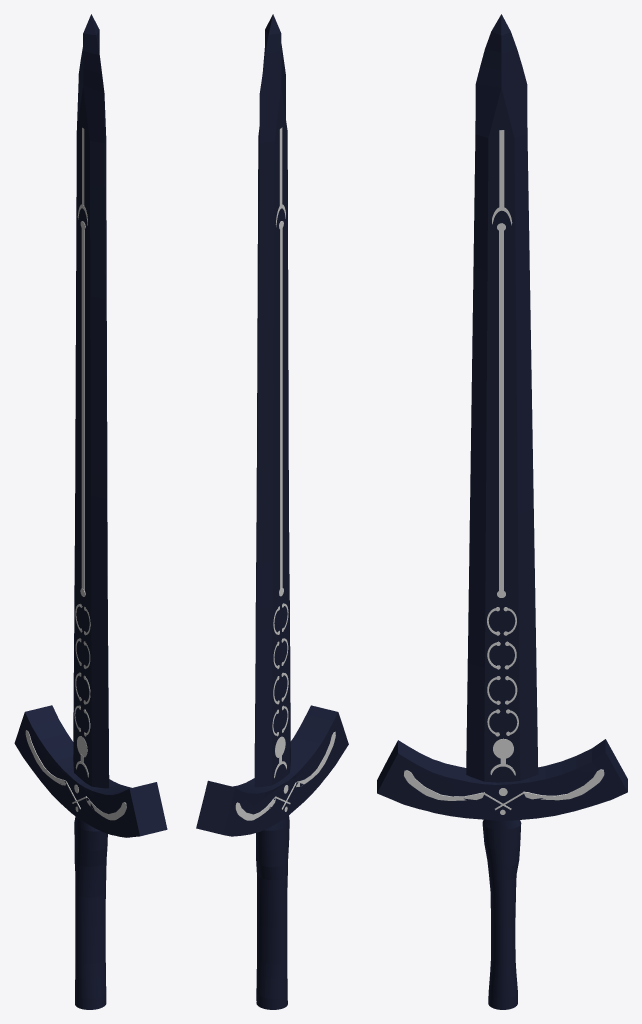
Rendered from Salter sword model.fbx.
The picture shows the model from 3 angles, left to right: view 1: azimuth 30°, elevation 25°; view 2: azimuth 150°, elevation 25°; view 3: azimuth 270°, elevation 25°; orthographic projection.
Parts seen in each view (by area): view 1: Cube.001, Cube, Cylinder, Cube.002; view 2: Cube.001, Cube, Cylinder, Cube.002; view 3: Cube.001, Cube, Cylinder, Cube.002, Cylinder.004, Cylinder.003.
Part boxes in pixels (bbox=[...]): Cube.001: bbox=[73, 14, 109, 788]; Cube: bbox=[14, 705, 167, 837]; Cylinder: bbox=[74, 816, 107, 1009]; Cube.002: bbox=[81, 228, 84, 590]; Cube.001: bbox=[254, 14, 290, 787]; Cube: bbox=[196, 705, 348, 836]; Cylinder: bbox=[256, 815, 289, 1009]; Cube.002: bbox=[280, 228, 282, 589]; Cube.001: bbox=[466, 14, 538, 782]; Cube: bbox=[377, 739, 627, 820]; Cylinder: bbox=[482, 819, 521, 1009]; Cube.002: bbox=[499, 231, 503, 592]; Cylinder.004: bbox=[523, 769, 604, 800]; Cylinder.003: bbox=[404, 770, 484, 800].
Size of the model in its own units: 14.85 by 469 by 108.
